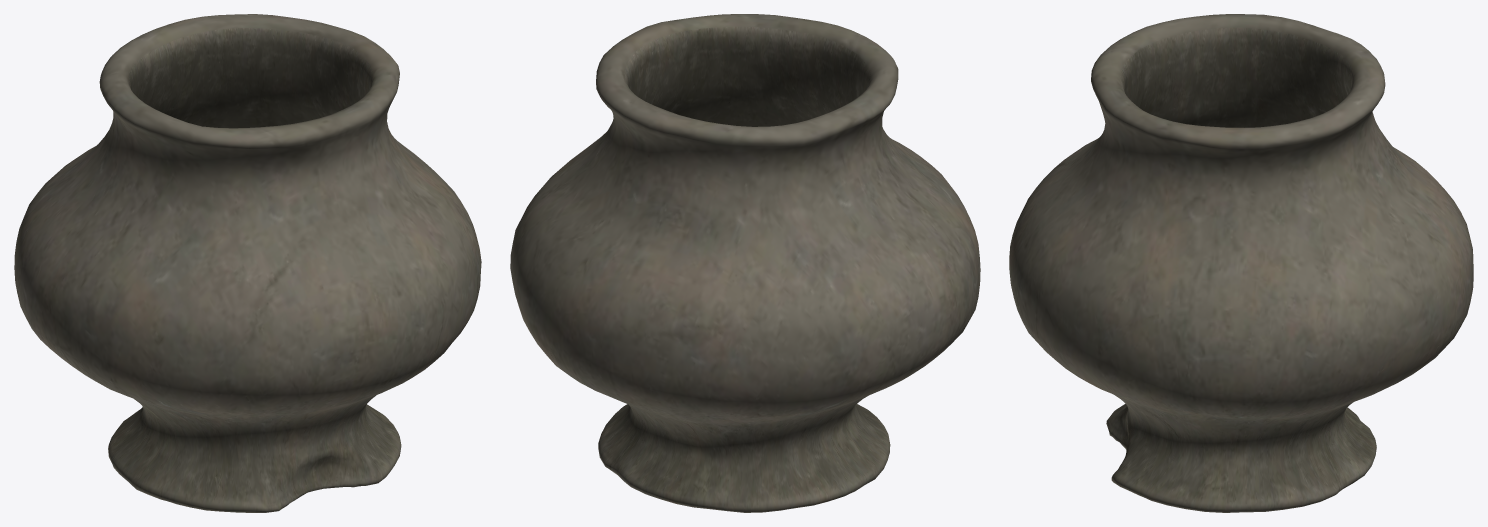
Rendered from stone_jar.glb.
The picture shows the model from 3 angles, left to right: view 1: azimuth 30°, elevation 25°; view 2: azimuth 150°, elevation 25°; view 3: azimuth 270°, elevation 25°; orthographic projection.
Visible parts, largest first — view 1: Group45659; view 2: Group45659; view 3: Group45659.
Boxes of the visible parts, box(x1,y1,x2,y2) form: Group45659: box(14, 14, 481, 512); Group45659: box(510, 14, 980, 512); Group45659: box(1009, 14, 1473, 512).
Size of the model in its own units: 21.63 by 19.62 by 21.6.
1 material, 1 textured.
